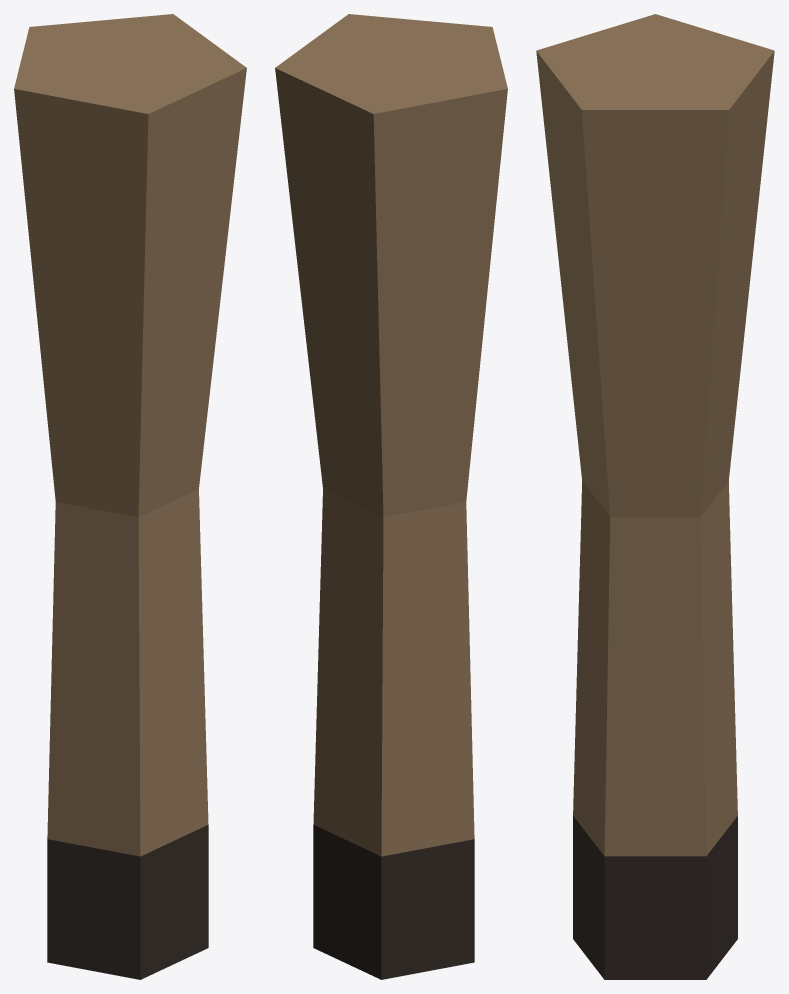
Rendered from animal_ibex_leg.obj.
3 renders of one model, left to right at view 1: azimuth 30°, elevation 25°; view 2: azimuth 150°, elevation 25°; view 3: azimuth 270°, elevation 25°, orthographic.
Parts seen in each view (by area): view 1: animal_ibex_leg; view 2: animal_ibex_leg; view 3: animal_ibex_leg.
Boxes of the visible parts, box(x1,y1,x2,y2) form: animal_ibex_leg: box(14, 14, 246, 979); animal_ibex_leg: box(275, 14, 507, 979); animal_ibex_leg: box(536, 14, 774, 979).
Bounding box in the file's own units: 0.0993 × 0.4267 × 0.1044.
